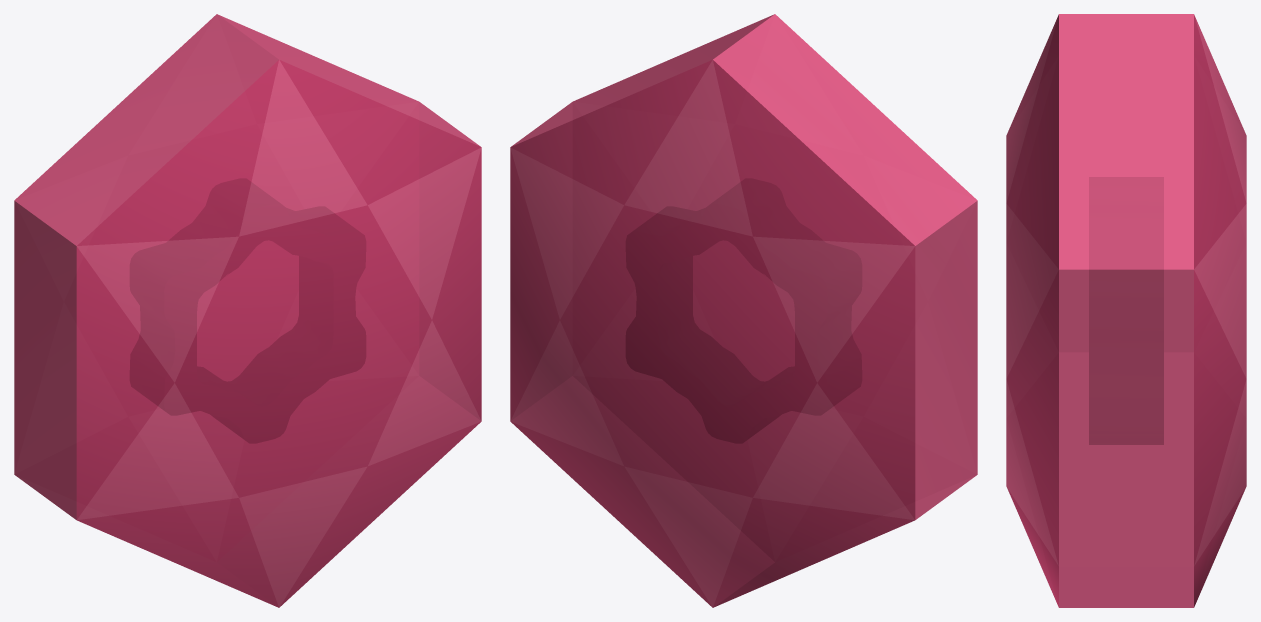
3 renders of one model, left to right at view 1: azimuth 30°, elevation 25°; view 2: azimuth 150°, elevation 25°; view 3: azimuth 270°, elevation 25°, orthographic. The views are drawn at different scales.
Parts seen in each view (by area): view 1: body; view 2: body; view 3: body.
Part boxes in pixels (box(x1,y1,x2,y2)): body: box(14, 14, 481, 607); body: box(510, 14, 977, 607); body: box(1006, 14, 1246, 607).
Bounding box in the file's own units: 0.1933 × 0.25 × 0.0916.
Materials: 2 (2 with a texture image).
